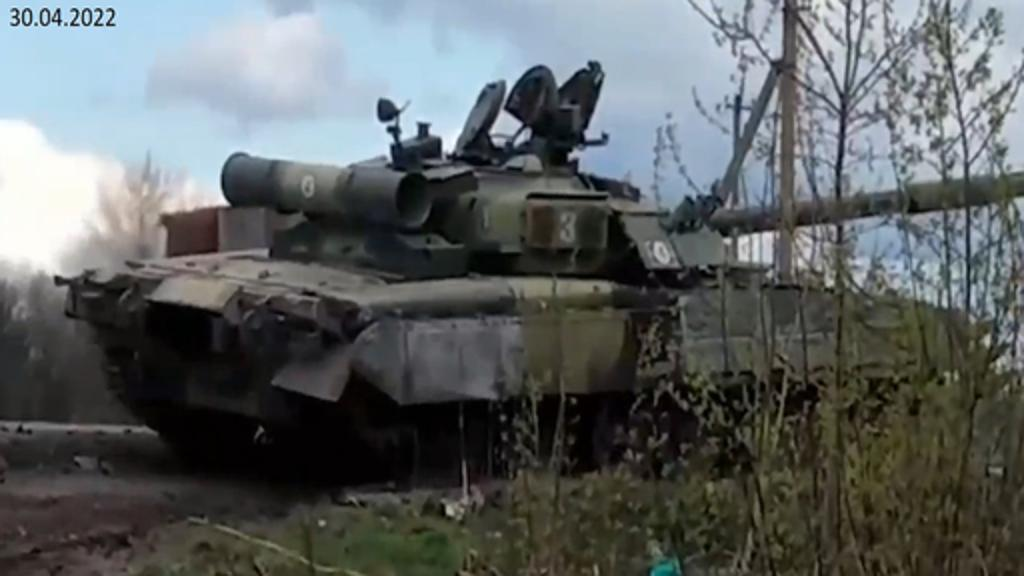TANK: (54, 62, 1022, 490)
